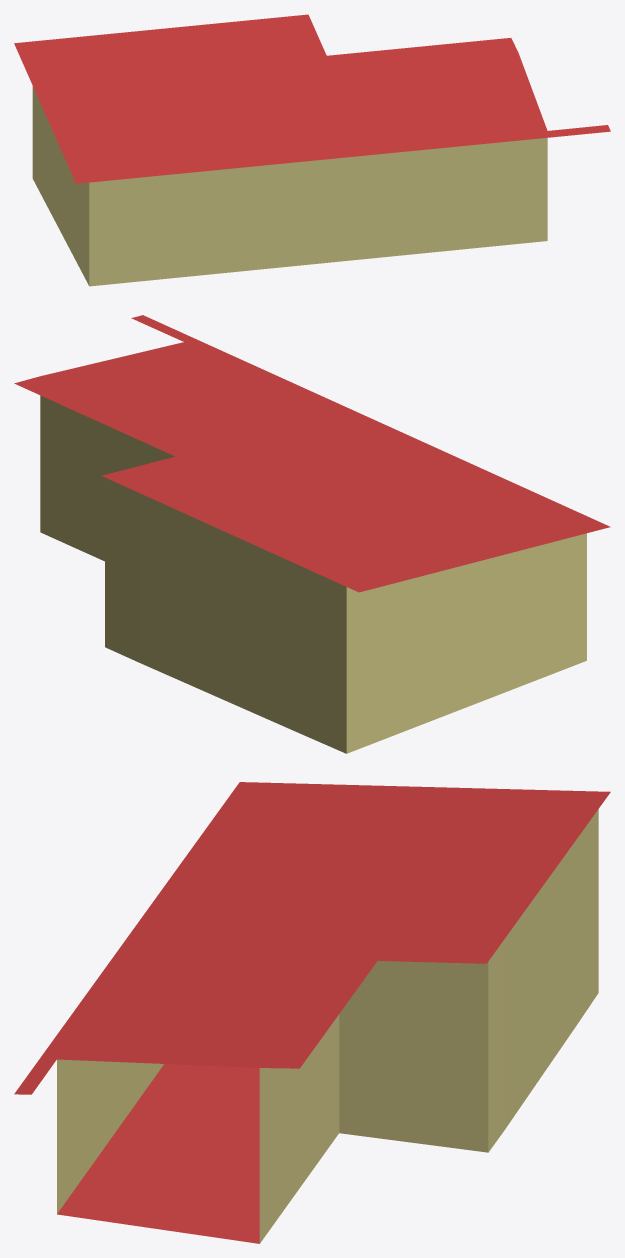
3 views of the same model, one above another, from view 1: azimuth 30°, elevation 25°; view 2: azimuth 150°, elevation 25°; view 3: azimuth 270°, elevation 25° (orthographic). The views are drawn at different scales.
Size of the model in its own units: 25.17 by 20.18 by 7.13.
